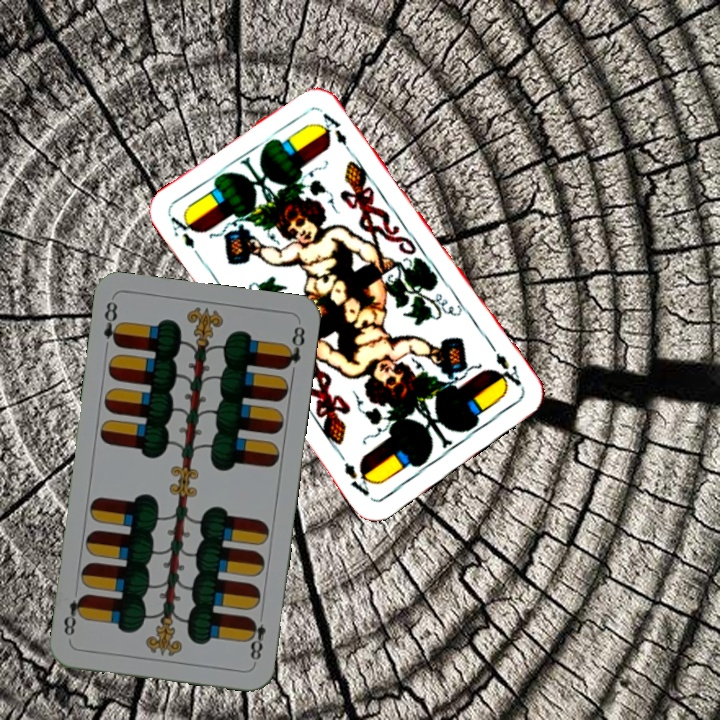E8: (99, 297, 124, 350), (244, 614, 269, 666)
EA: (166, 210, 205, 263), (491, 349, 524, 392)
